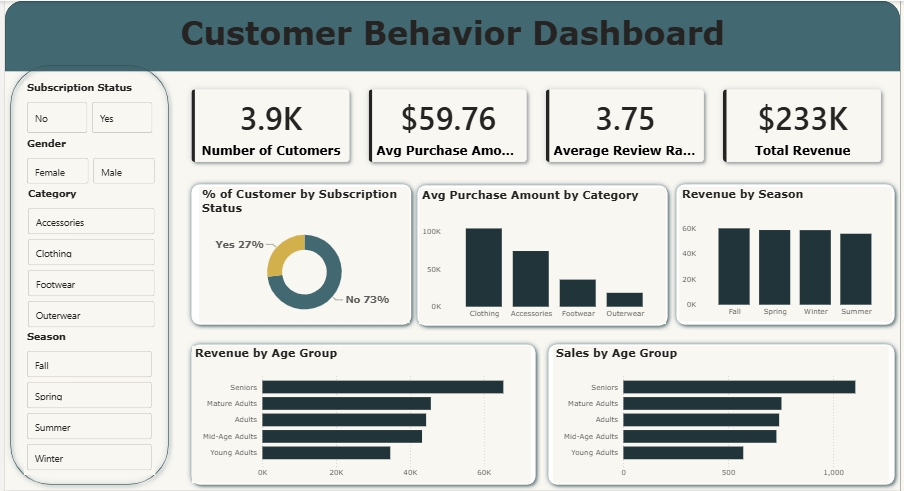

This screenshot's page, from the dashboard's own definition file:
{"tool":"powerbi","page":{"name":"Page 1","canvas":[1500,820],"ordinal":0},"visuals":[{"type":"cardVisual","fields":{"Data":["Customer_Behavior_Analytics_Cle.Number of Cutomers","Customer_Behavior_Analytics_Cle.Average Purchase Amount","Customer_Behavior_Analytics_Cle.Average Review Rating","Customer_Behavior_Analytics_Cle.Total Revenue"]},"box":[283.3,118.3,1216.7,180],"z":0},{"type":"shape","box":[0,0,1500,118.3],"z":1000},{"type":"textbox","box":[0,15,1500,83.3],"z":2000},{"type":"shape","box":[303.3,298.3,386.7,253.3],"z":3000},{"type":"donutChart","title":"% of Customer by Subscription Status","fields":{"Category":["Customer_Behavior_Analytics_Cle.Subscription Status"],"Y":["CountNonNull(Customer_Behavior_Analytics_Cle.Customer ID)"]},"box":[325,311.7,353.3,228.3],"z":4000},{"type":"shape","box":[1116.2,298.3,383.8,253.1],"z":5000},{"type":"shape","box":[682.1,300,437.4,253.1],"z":6000},{"type":"clusteredColumnChart","title":"Avg Purchase Amount by Category","fields":{"Y":["Sum(Customer_Behavior_Analytics_Cle.Purchase Amount (USD))"],"Category":["Customer_Behavior_Analytics_Cle.Category"]},"box":[693.9,313.4,414,227.9],"z":7000},{"type":"clusteredColumnChart","title":"Revenue by Season","fields":{"Category":["Customer_Behavior_Analytics_Cle.Season"],"Y":["Customer_Behavior_Analytics_Cle.Total Revenue"]},"box":[1129.6,311.7,357,226.3],"z":8000},{"type":"shape","box":[303.4,566.5,595,253.1],"z":9000},{"type":"shape","box":[901.7,566.5,598.3,253.1],"z":10000},{"type":"shape","box":[0,98.9,283.2,720.7],"z":11000},{"type":"advancedSlicerVisual","fields":{"Values":["Customer_Behavior_Analytics_Cle.Subscription Status"]},"box":[31.8,134.1,221.2,92.2],"z":12000},{"type":"advancedSlicerVisual","title":"Gender","fields":{"Values":["Customer_Behavior_Analytics_Cle.Gender"]},"box":[31.8,227.9,224.6,83.8],"z":13000},{"type":"advancedSlicerVisual","title":"Category","fields":{"Values":["Customer_Behavior_Analytics_Cle.Category"]},"box":[33.5,311.7,222.9,241.3],"z":14000},{"type":"advancedSlicerVisual","title":"Season","fields":{"Values":["Customer_Behavior_Analytics_Cle.Season"]},"box":[31.8,551.4,219.6,243],"z":15000},{"type":"clusteredBarChart","title":" Revenue by Age Group","fields":{"Category":["Customer_Behavior_Analytics_Cle.Age Group"],"Y":["Customer_Behavior_Analytics_Cle.Total Revenue"]},"box":[313.4,578.2,568.2,229.6],"z":16000},{"type":"clusteredBarChart","title":"Sales by Age Group","fields":{"Category":["Customer_Behavior_Analytics_Cle.Age Group"],"Y":["CountNonNull(Customer_Behavior_Analytics_Cle.Customer ID)"]},"box":[918.4,578.2,563.1,229.6],"z":16001}]}

Visuals, with their boxes in screenshot pixels (x1, y1, x2, y2), scaled from the page's 1500x820 canvas onto the 904x491 screenshot:
cardVisual - Customer_Behavior_Analytics_Cle.Number of Cutomers x Customer_Behavior_Analytics_Cle.Average Purchase Amount: <box>171,71,903,179</box>
shape: <box>0,0,903,71</box>
textbox: <box>0,9,903,59</box>
shape: <box>183,179,416,330</box>
"% of Customer by Subscription Status" donutChart: <box>196,187,409,323</box>
shape: <box>673,179,903,330</box>
shape: <box>411,180,675,331</box>
"Avg Purchase Amount by Category" clusteredColumnChart: <box>418,188,668,324</box>
"Revenue by Season" clusteredColumnChart: <box>681,187,896,322</box>
shape: <box>183,339,541,490</box>
shape: <box>543,339,903,490</box>
shape: <box>0,59,171,490</box>
advancedSlicerVisual - Customer_Behavior_Analytics_Cle.Subscription Status: <box>19,80,152,136</box>
"Gender" advancedSlicerVisual: <box>19,136,155,187</box>
"Category" advancedSlicerVisual: <box>20,187,155,331</box>
"Season" advancedSlicerVisual: <box>19,330,152,476</box>
" Revenue by Age Group" clusteredBarChart: <box>189,346,531,484</box>
"Sales by Age Group" clusteredBarChart: <box>553,346,893,484</box>
